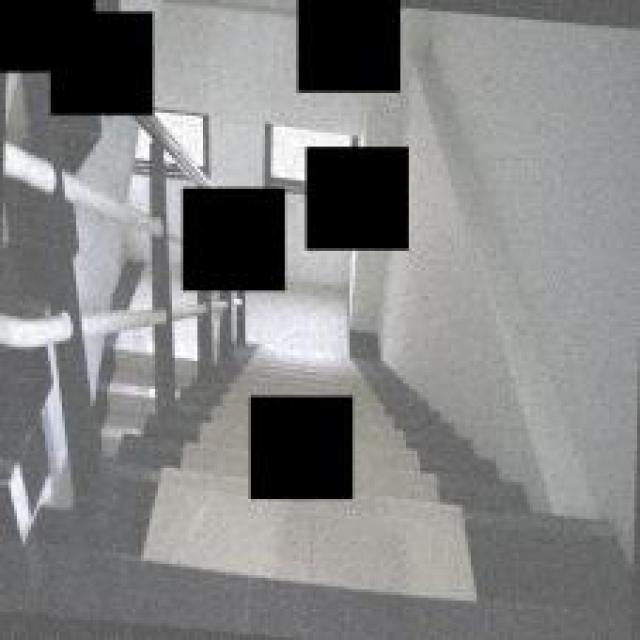downstair: (361, 389, 499, 640)
